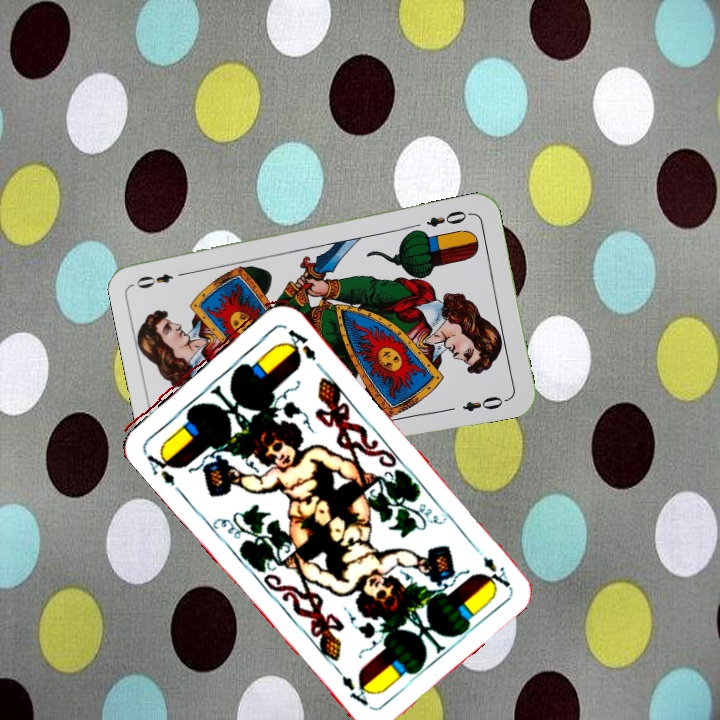EA: (138, 437, 181, 493), (468, 541, 513, 590)
EO: (422, 206, 474, 230)
